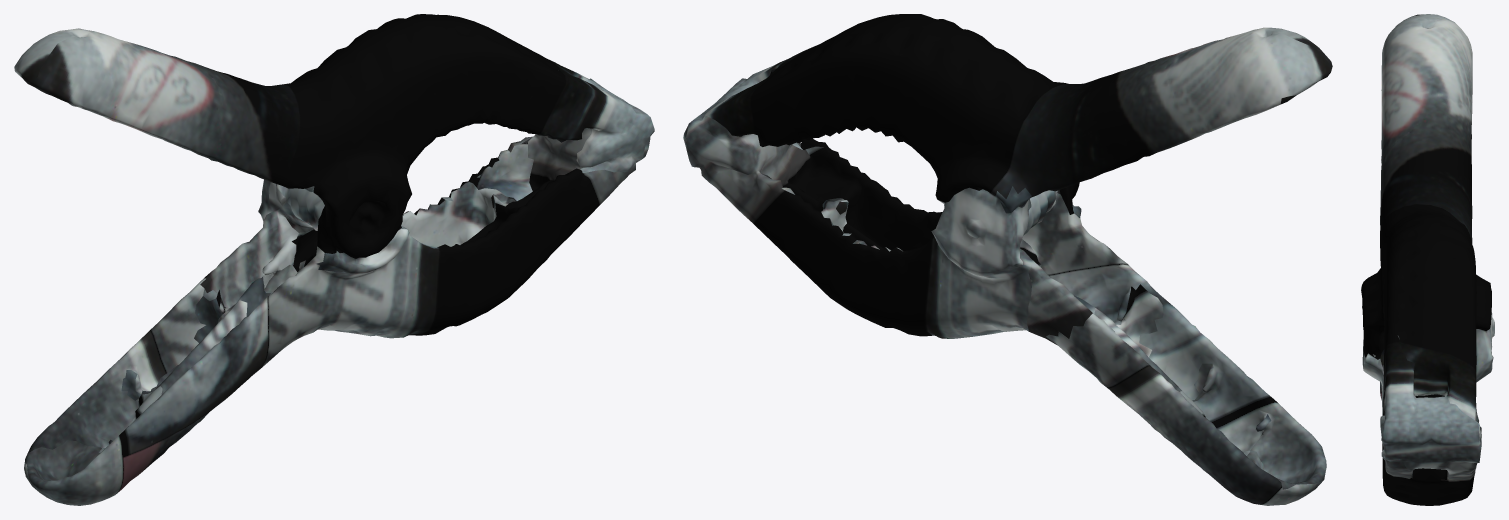
The picture shows the model from 3 angles, left to right: view 1: azimuth 30°, elevation 25°; view 2: azimuth 150°, elevation 25°; view 3: azimuth 270°, elevation 25°; orthographic projection. The views are drawn at different scales.
Bounding box in the file's own units: 0.1659 × 0.1216 × 0.0364.
